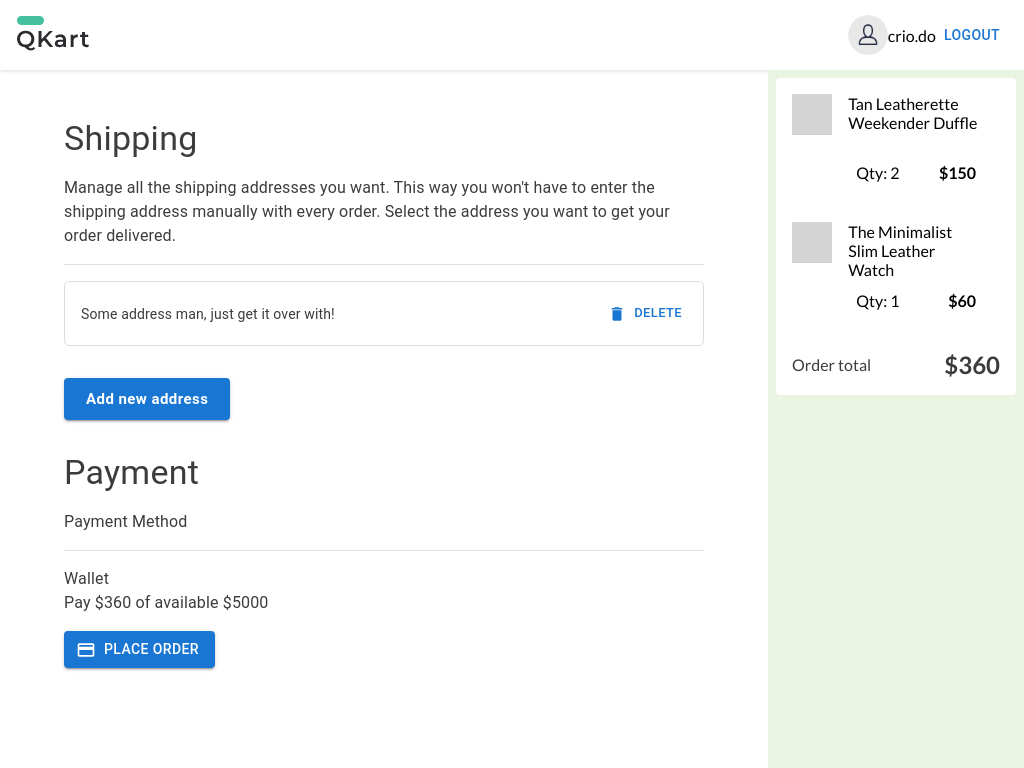
Test case: Checkout Page › should show error message if low balance
Click the text "Some address man, just get it over with! Delete". click: point(384, 314)
box: [64,281,704,346]
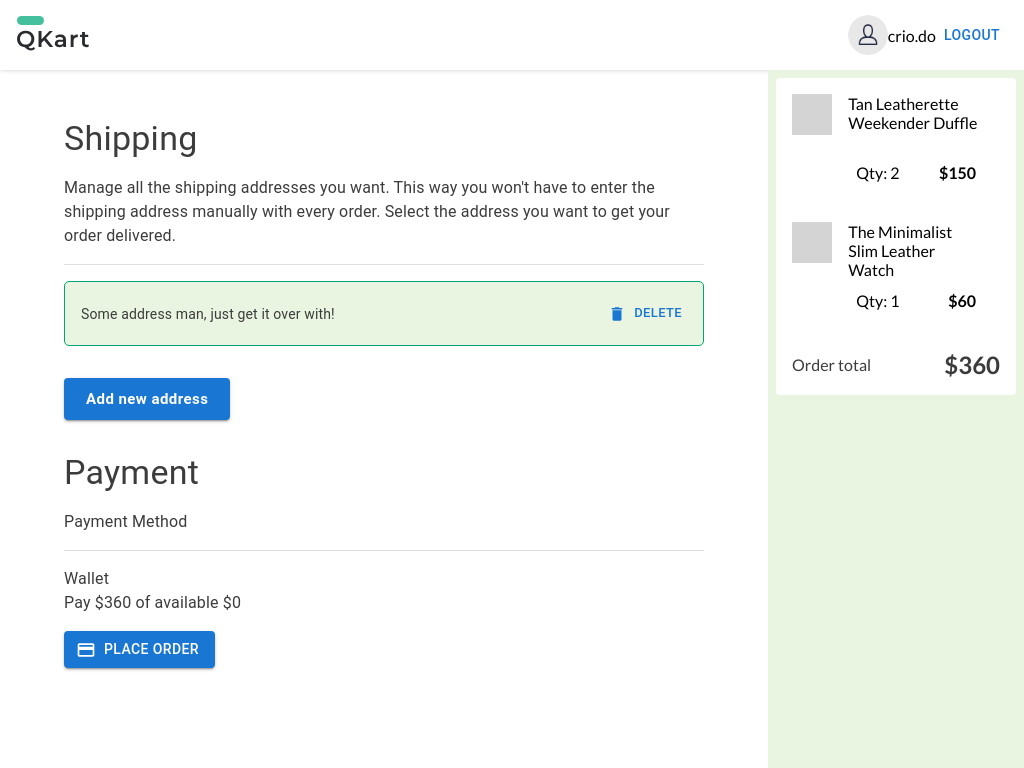
Click the button "PLACE ORDER". click: point(140, 650)
box: [64,631,215,668]
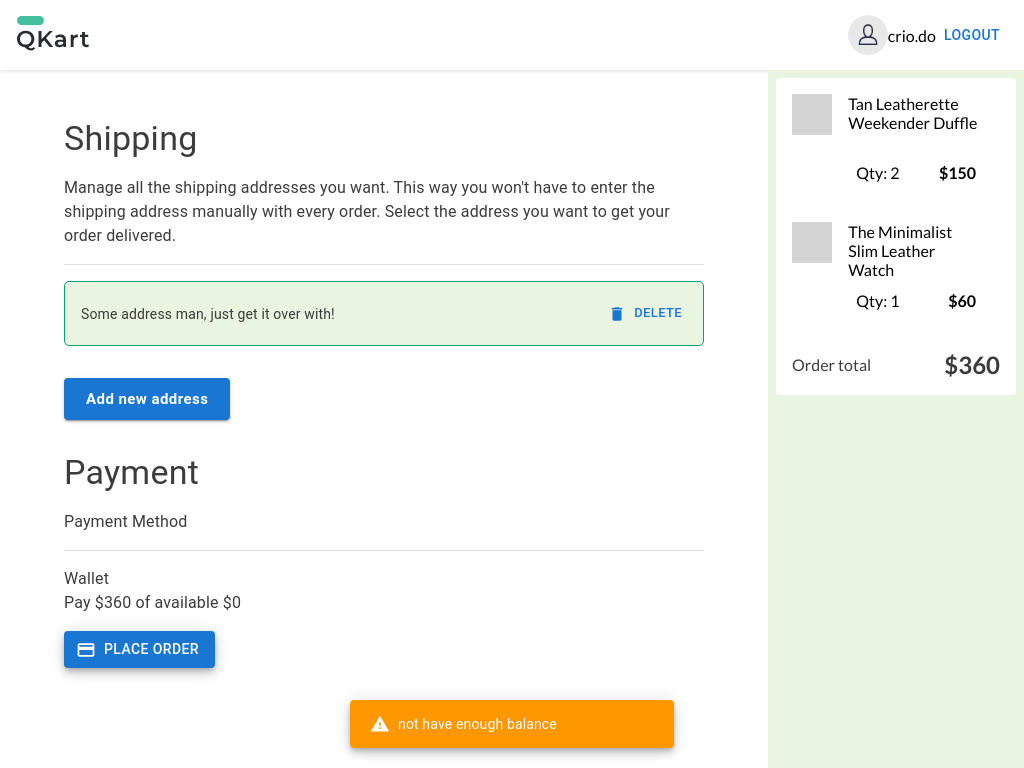
Check: the message reads "not have enough balance", box [398,716,557,732]
